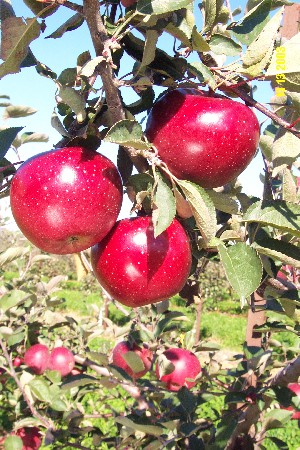apple: (8, 145, 125, 257), (143, 85, 263, 191), (89, 213, 198, 306)
